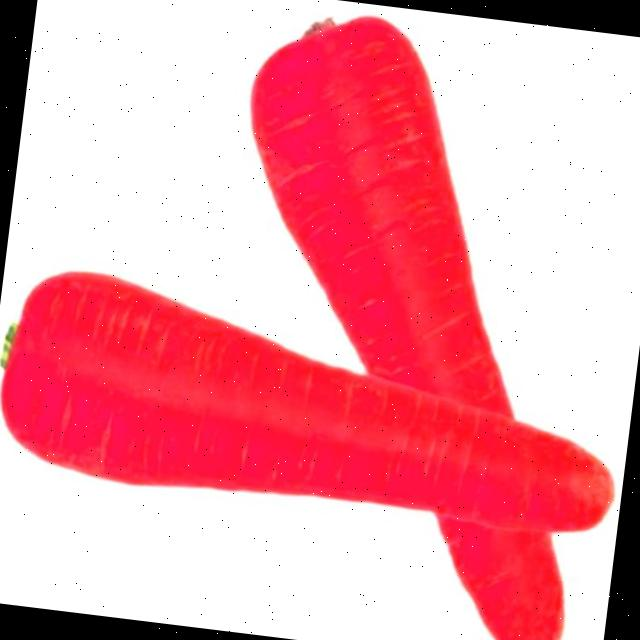carrot: (251, 17, 565, 640), (2, 272, 612, 530)
